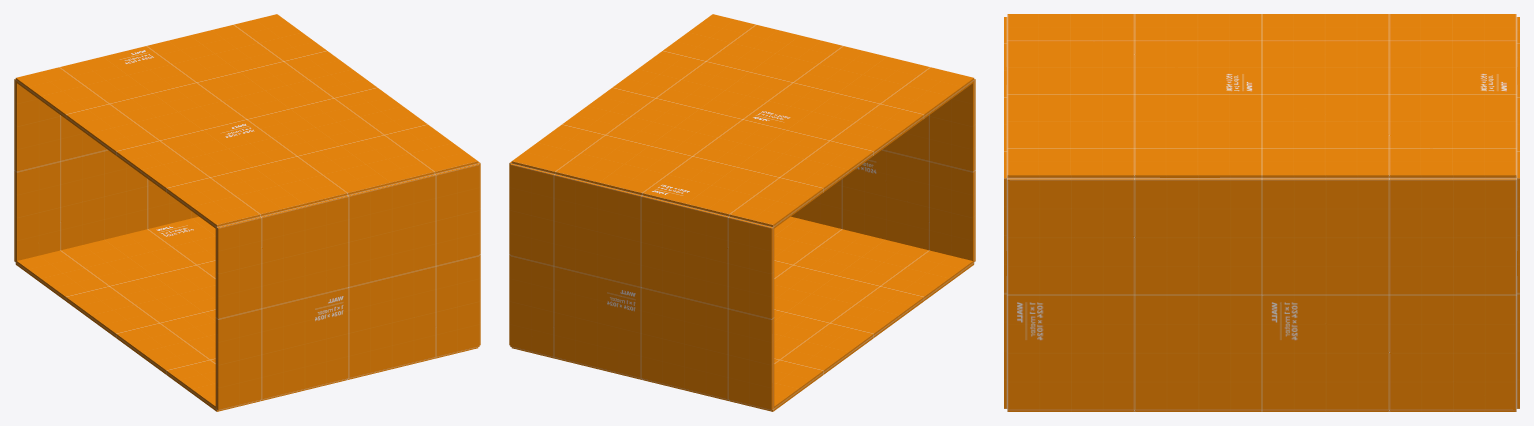
File: mafia.glb
3 views of the same model, side by side, from view 1: azimuth 30°, elevation 25°; view 2: azimuth 150°, elevation 25°; view 3: azimuth 270°, elevation 25° (orthographic). The views are drawn at different scales.
Visible parts, largest first — view 1: Cube.004, Cube.002, Cube, Cube.001; view 2: Cube.004, Cube.001, Cube, Cube.002; view 3: Cube.003, Cube.004, Cube.001, Cube.002, Cube.
Part boxes in pixels (x1,y1,x2,y2): Cube.004: (15, 14, 478, 228); Cube.002: (215, 163, 479, 410); Cube: (15, 216, 478, 411); Cube.001: (14, 79, 198, 262); Cube.004: (511, 14, 974, 229); Cube.001: (510, 163, 774, 410); Cube: (511, 216, 974, 411); Cube.002: (791, 79, 975, 262); Cube.003: (1007, 178, 1516, 410); Cube.004: (1007, 14, 1516, 178); Cube.001: (1516, 17, 1519, 408); Cube.002: (1004, 17, 1007, 408); Cube: (1007, 410, 1516, 411).
Bounding box in the file's own units: 60.5 × 41 × 81.
1 material, 1 textured.
